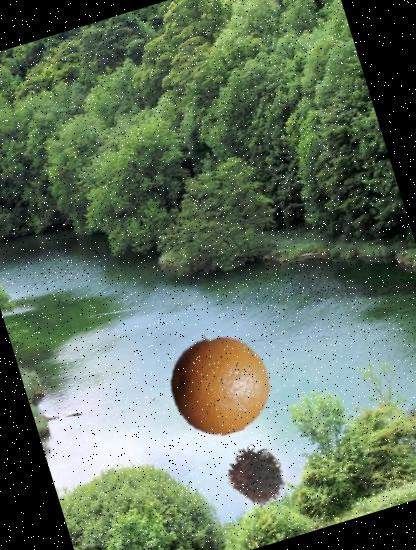Orange: (156, 320, 284, 447)
Rambutan: (214, 432, 300, 519)
